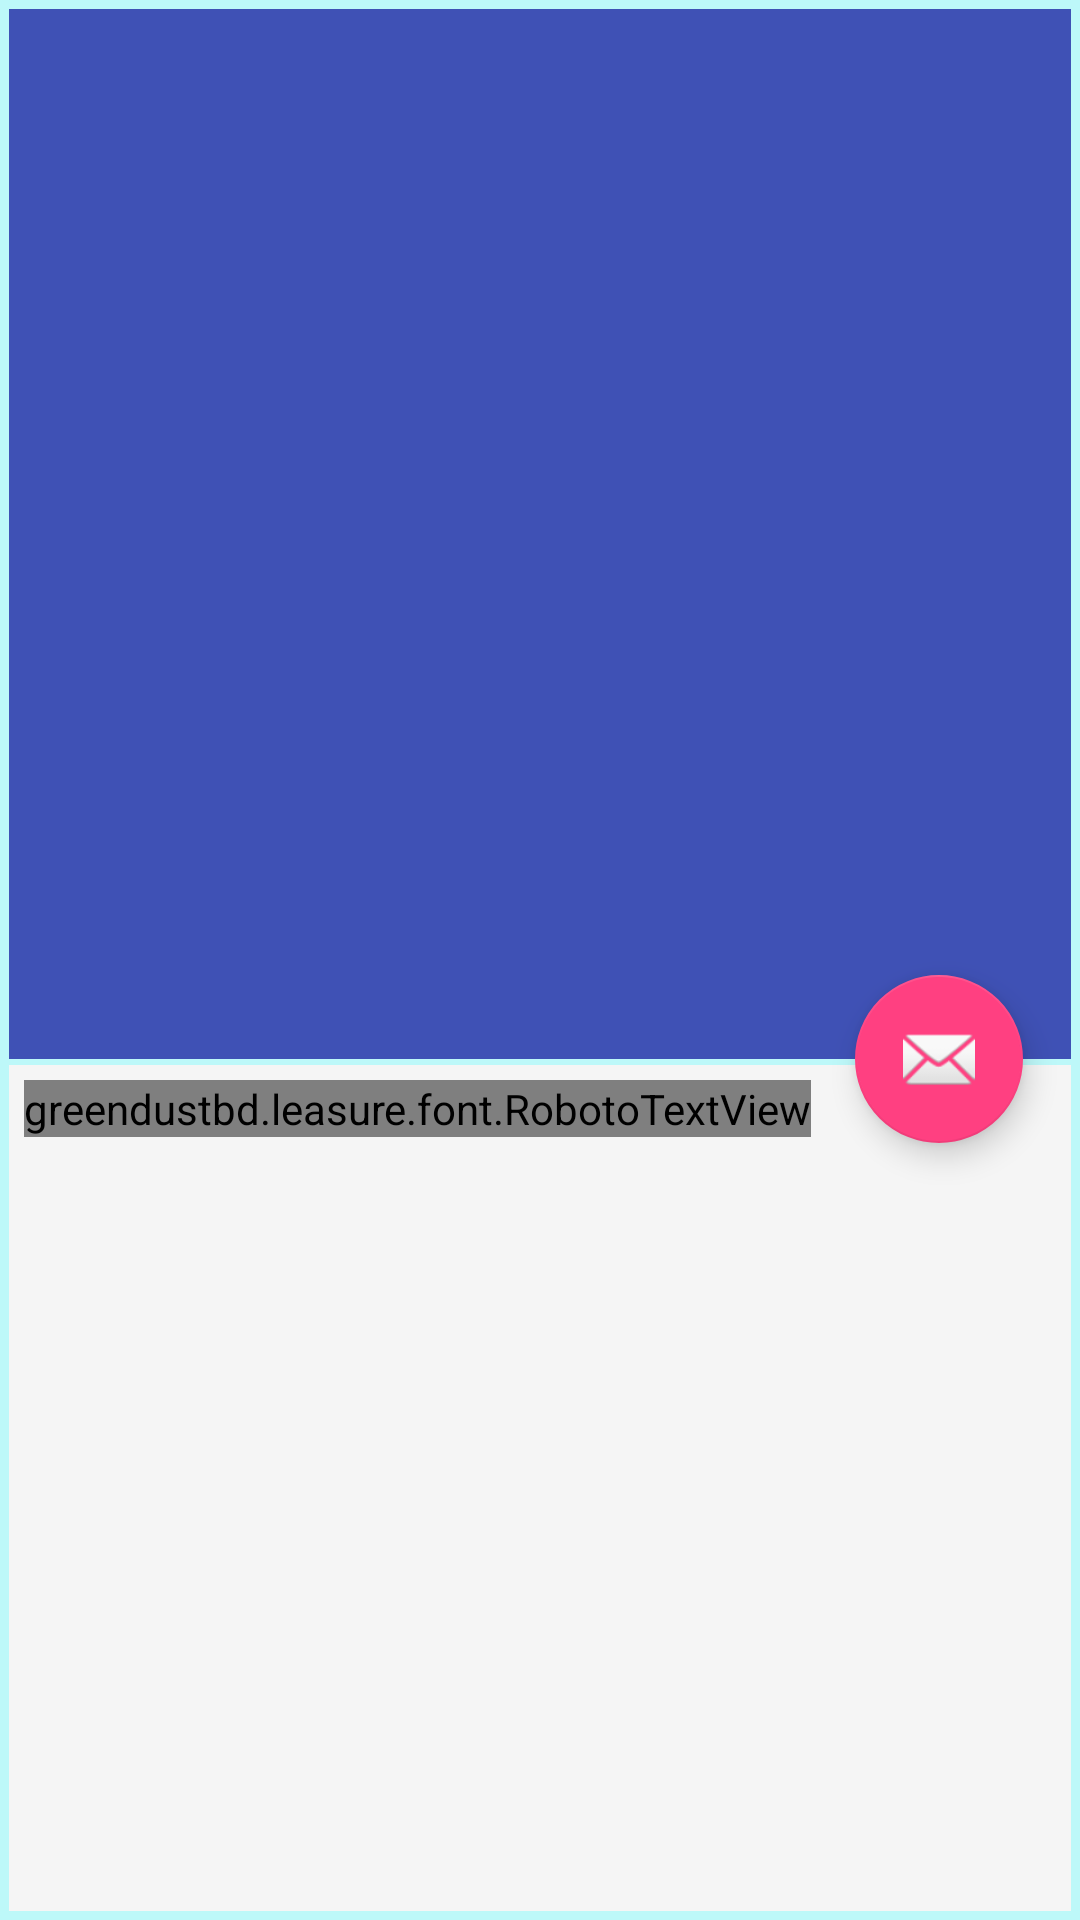

Where to tap for icons on this 1080*1920 app screen, as [x,y]:
email: [939,1059]
